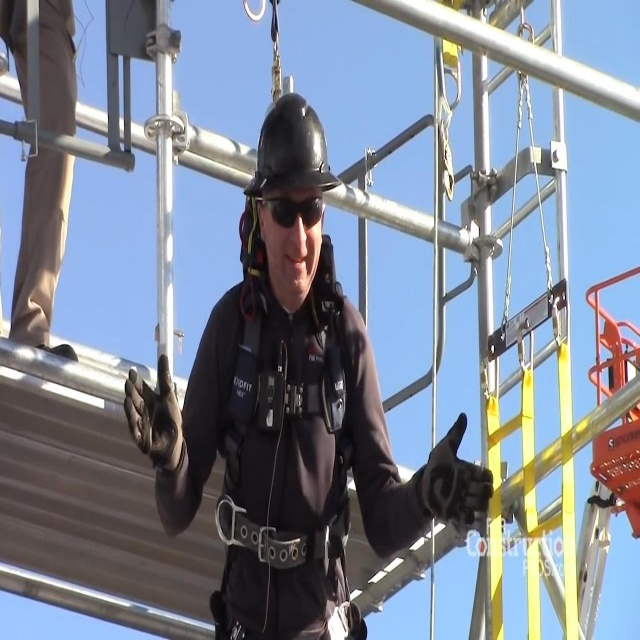Arnes_seguridad: (209, 167, 365, 640)
